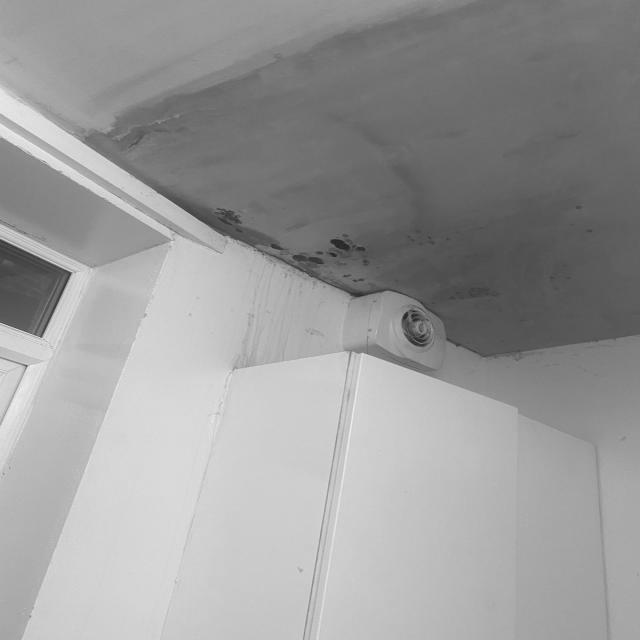stain marks: (307, 0, 640, 353), (0, 1, 306, 278), (221, 255, 301, 374), (0, 208, 52, 252)
